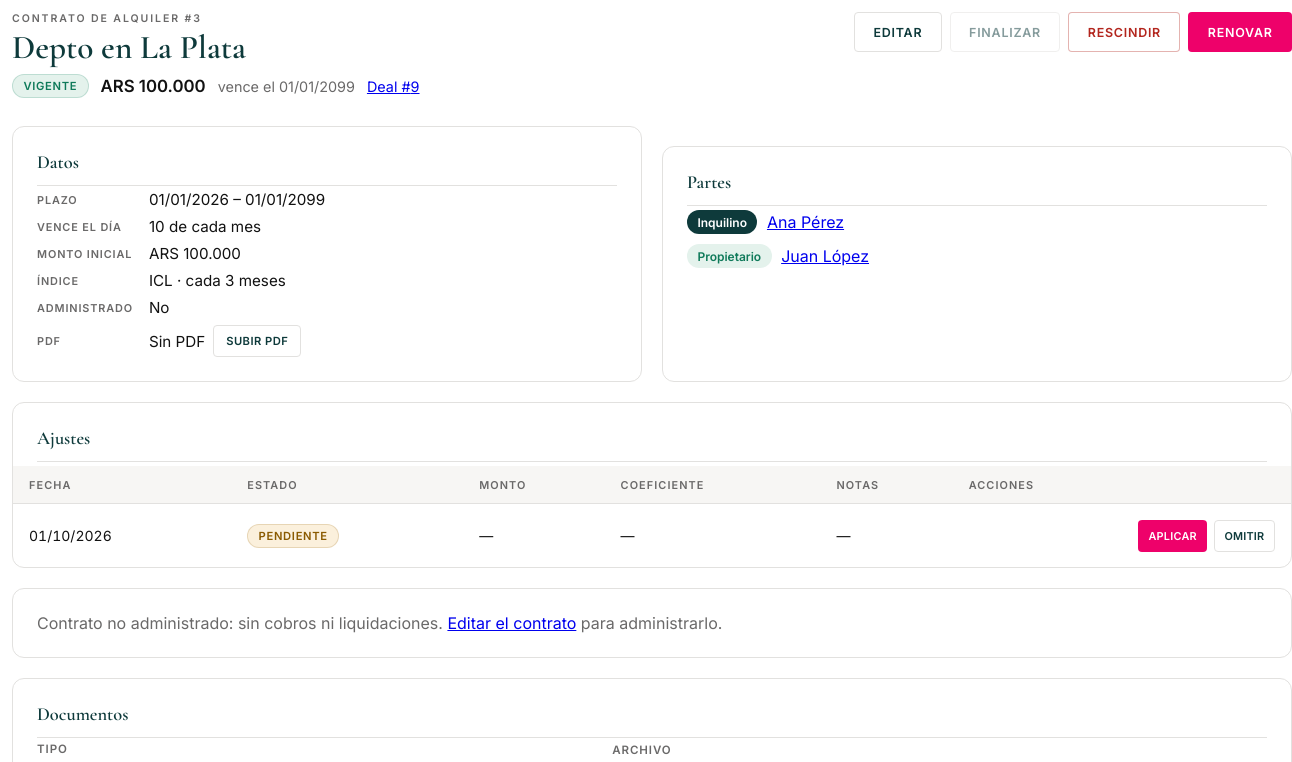
Scenario: muestra el 409 del backend al omitir
Click the button "Omitir" at (1244, 536), box [1214, 520, 1275, 552]
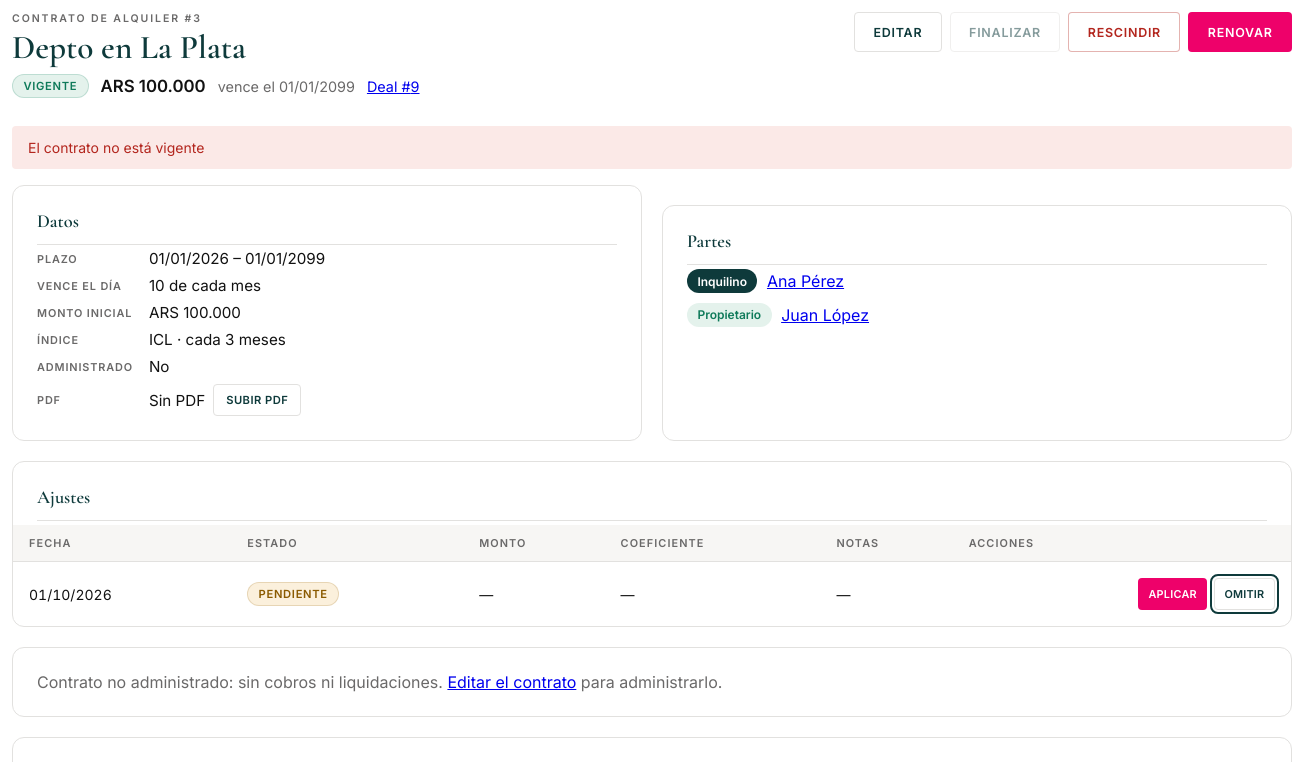
Now the message reads "El contrato no está vigente", box [28, 139, 204, 156]
